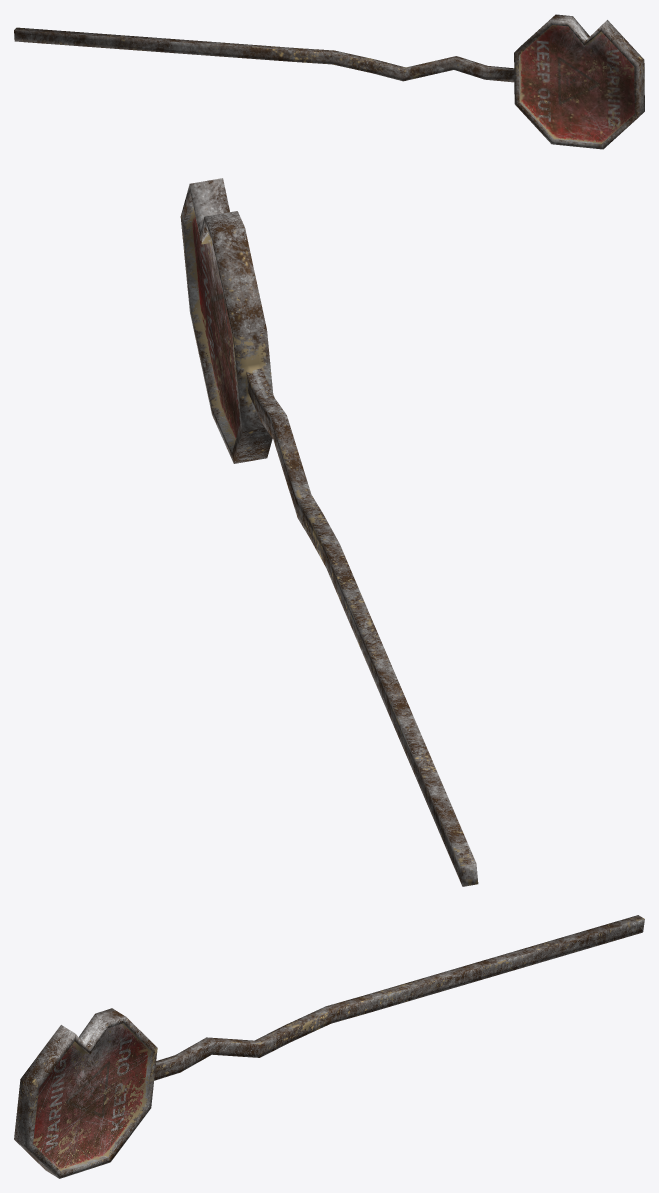
Rendered from Anim_idle_senyal_objetos.0020.obj.
3 views of the same model, one above another, from view 1: azimuth 30°, elevation 25°; view 2: azimuth 150°, elevation 25°; view 3: azimuth 270°, elevation 25° (orthographic). The views are drawn at different scales.
Bounding box in the file's own units: 8.51 × 2.56 × 9.55.
